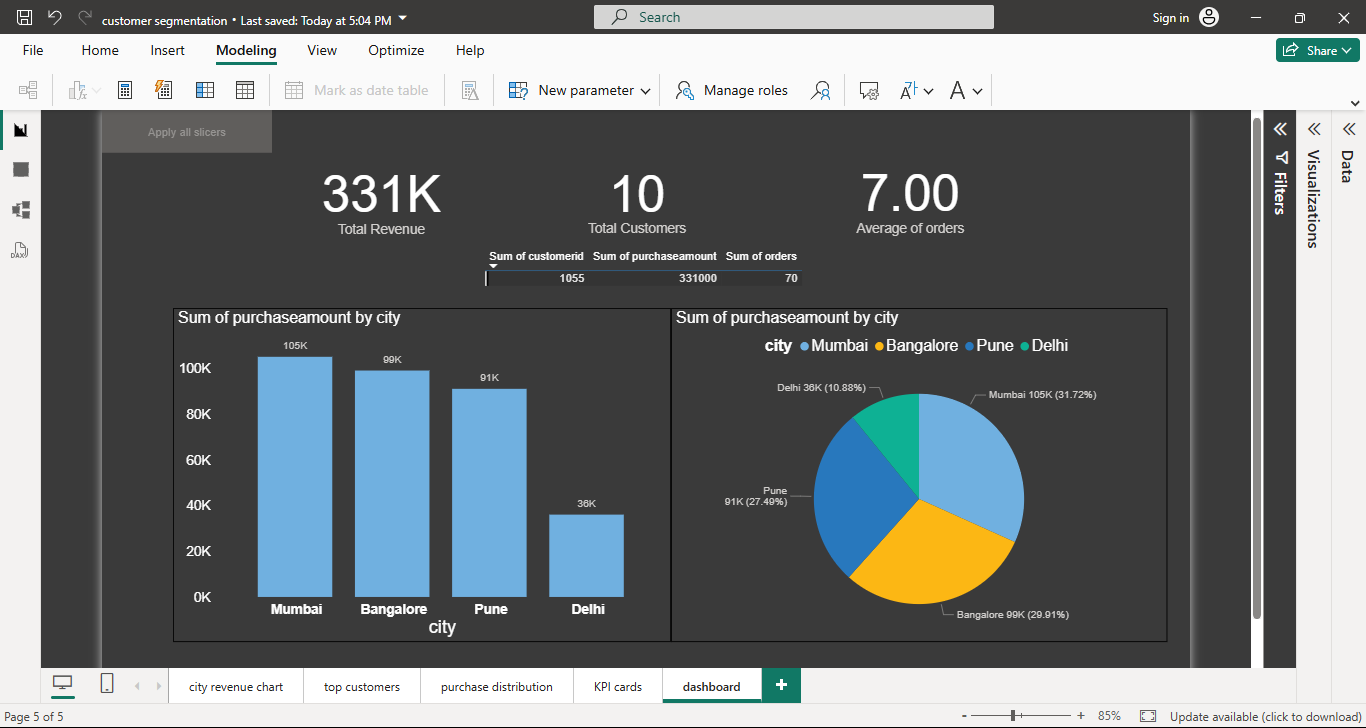

The page's visual inventory and layout, read from the dashboard file:
{"tool":"powerbi","page":{"name":"dashboard","canvas":[1280,720],"ordinal":4},"visuals":[{"type":"card","fields":{"Values":["public customers.Total Revenue"]},"box":[50.9,34.4,280.8,111.5],"z":0},{"type":"card","fields":{"Values":["public customers.Total Customers"]},"box":[359.2,33,313.8,112.9],"z":1000},{"type":"card","fields":{"Values":["Avg(public customers.orders)"]},"box":[673,31.7,280.8,114.2],"z":2000},{"type":"columnChart","fields":{"Category":["public customers.city"],"Y":["Sum(public customers.purchaseamount)"]},"box":[84,191.3,568.4,355.1],"z":3000},{"type":"tableEx","fields":{"Values":["Sum(public customers.customerid)","Sum(public customers.purchaseamount)","Sum(public customers.orders)"]},"box":[84,561.5,437.7,111.5],"z":4000},{"type":"pieChart","fields":{"Y":["Sum(public customers.purchaseamount)"],"Category":["public customers.city"]},"box":[673,191.3,567.1,412.9],"z":5000},{"type":"actionButton","box":[0,0,200,50],"z":5001}]}

Visuals, with their boxes on the page's 1280x720 design canvas (x1, y1, x2, y2). These are canvas units, not pixel positions in the 1366x728 screenshot, which may show the page scaled, cropped or inside an application window:
card - public customers.Total Revenue: bbox(51, 34, 332, 146)
card - public customers.Total Customers: bbox(359, 33, 673, 146)
card - Avg(public customers.orders): bbox(673, 32, 954, 146)
columnChart - public customers.city x Sum(public customers.purchaseamount): bbox(84, 191, 652, 546)
tableEx - Sum(public customers.customerid) x Sum(public customers.purchaseamount): bbox(84, 562, 522, 673)
pieChart - Sum(public customers.purchaseamount) x public customers.city: bbox(673, 191, 1240, 604)
actionButton: bbox(0, 0, 200, 50)
